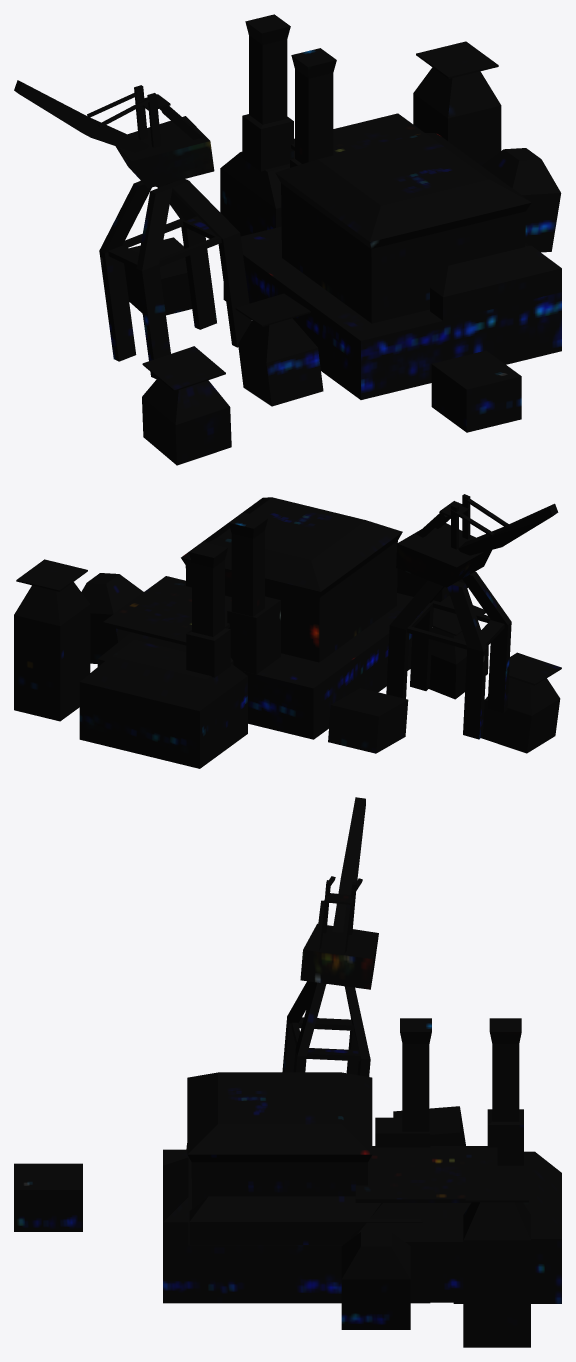
Rendered from Gotham_Docks_Area02.fbx.
3 renders of one model, top to bottom at view 1: azimuth 30°, elevation 25°; view 2: azimuth 150°, elevation 25°; view 3: azimuth 270°, elevation 25°, orthographic. The views are drawn at different scales.
Visible parts, largest first — view 1: _7_Gotham_Skyline_LODS_02; view 2: _7_Gotham_Skyline_LODS_02; view 3: _7_Gotham_Skyline_LODS_02.
Boxes of the visible parts, x1=… form: _7_Gotham_Skyline_LODS_02: x1=14, y1=14, x2=561, y2=465; _7_Gotham_Skyline_LODS_02: x1=14, y1=494, x2=561, y2=768; _7_Gotham_Skyline_LODS_02: x1=14, y1=797, x2=561, y2=1347.
Bounding box in the file's own units: 221555 × 135365 × 200166.
